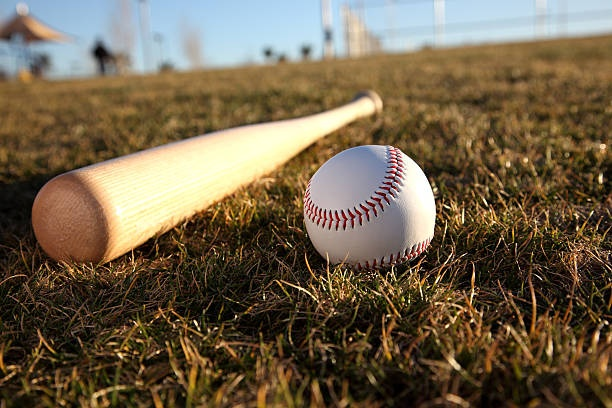bita: (37, 88, 379, 257)
